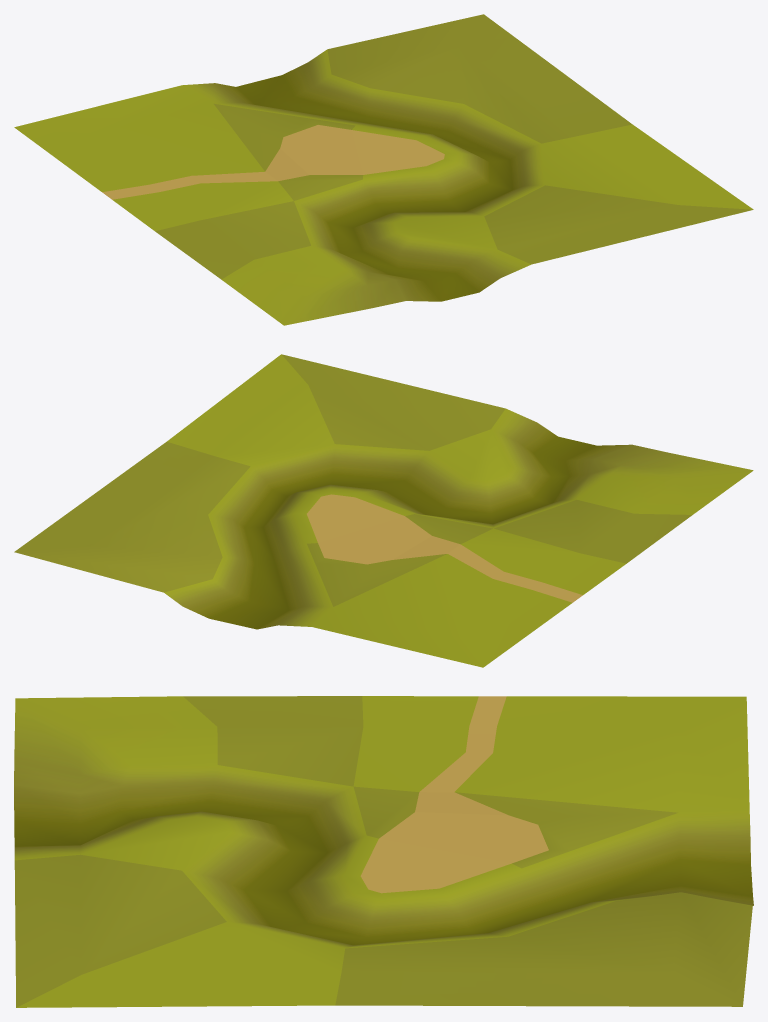
Rendered from SM_Onboarding_Terrain_01.fbx.
The picture shows the model from 3 angles, top to bottom: view 1: azimuth 30°, elevation 25°; view 2: azimuth 150°, elevation 25°; view 3: azimuth 270°, elevation 25°; orthographic projection. The views are drawn at different scales.
Visible parts, largest first — view 1: SM_Onboarding_Terrain_01; view 2: SM_Onboarding_Terrain_01; view 3: SM_Onboarding_Terrain_01.
Boxes of the visible parts, bbox=[...] form: SM_Onboarding_Terrain_01: bbox=[14, 14, 753, 325]; SM_Onboarding_Terrain_01: bbox=[14, 354, 753, 667]; SM_Onboarding_Terrain_01: bbox=[14, 696, 753, 1007].
Bounding box in the file's own units: 3.08 × 0.0966 × 3.09.
